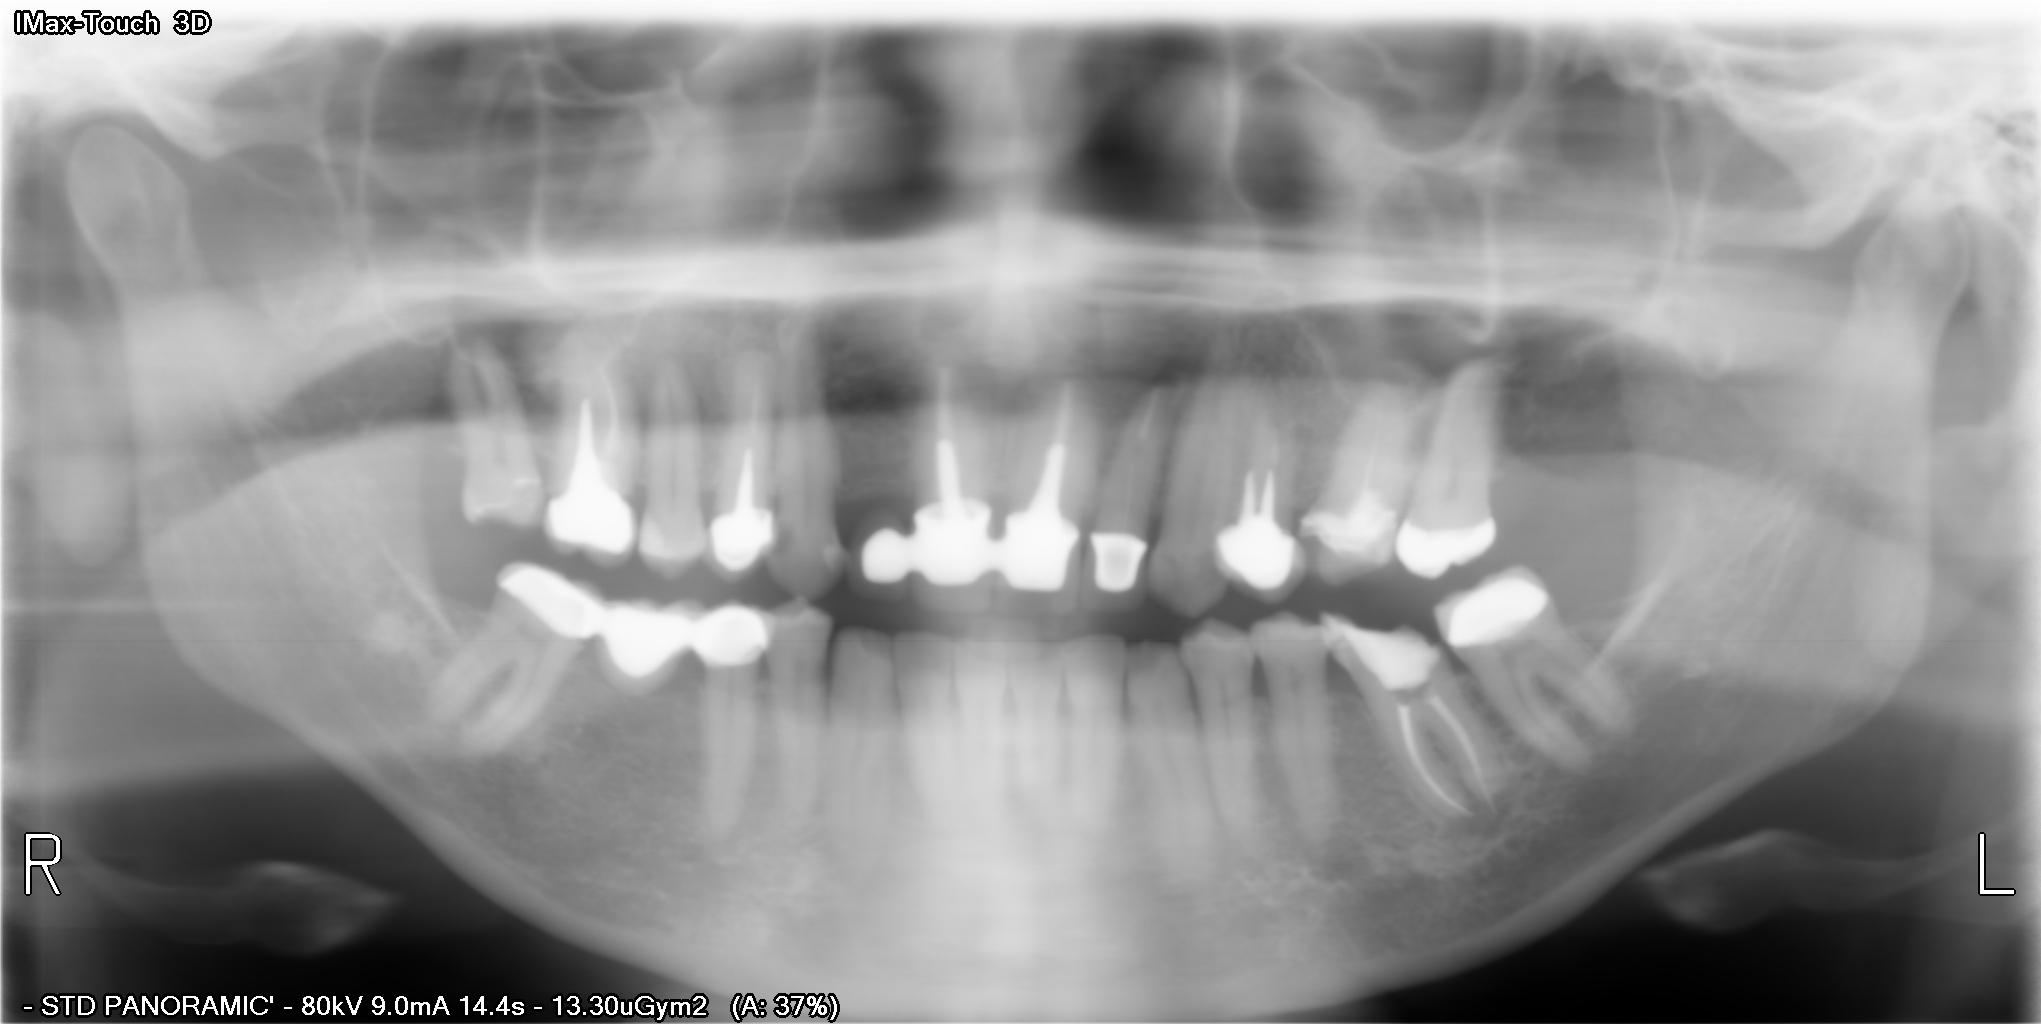Çürük: (539, 379, 639, 567), (904, 422, 999, 590), (992, 431, 1081, 600), (693, 428, 785, 579), (1212, 465, 1302, 596), (488, 552, 602, 653), (602, 585, 699, 688), (1442, 559, 1558, 643), (1329, 614, 1442, 691), (1396, 511, 1498, 583), (693, 596, 778, 677), (1089, 516, 1153, 605)
